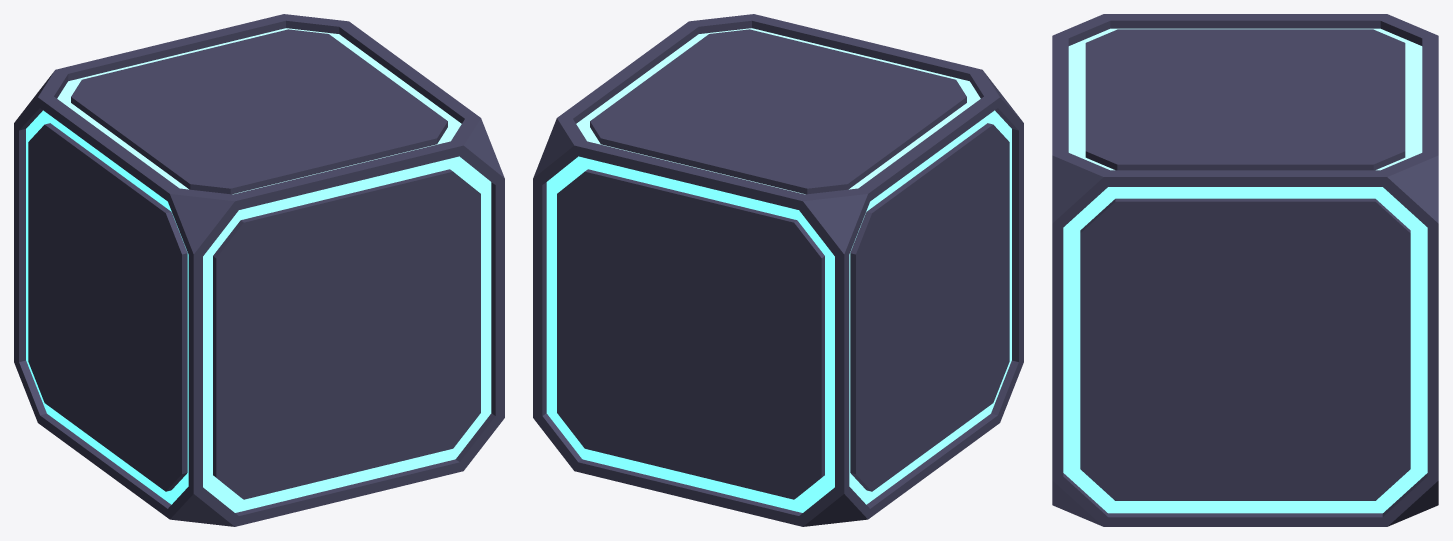
The model's file is MetalBox_01.fbx.
3 renders of one model, left to right at view 1: azimuth 30°, elevation 25°; view 2: azimuth 150°, elevation 25°; view 3: azimuth 270°, elevation 25°, orthographic. The views are drawn at different scales.
Parts seen in each view (by area): view 1: MetalBox_01; view 2: MetalBox_01; view 3: MetalBox_01.
Boxes of the visible parts, bbox=[...] form: MetalBox_01: bbox=[14, 14, 504, 526]; MetalBox_01: bbox=[533, 14, 1023, 526]; MetalBox_01: bbox=[1052, 14, 1438, 526].
Size of the model in its own units: 195 by 195 by 195.
